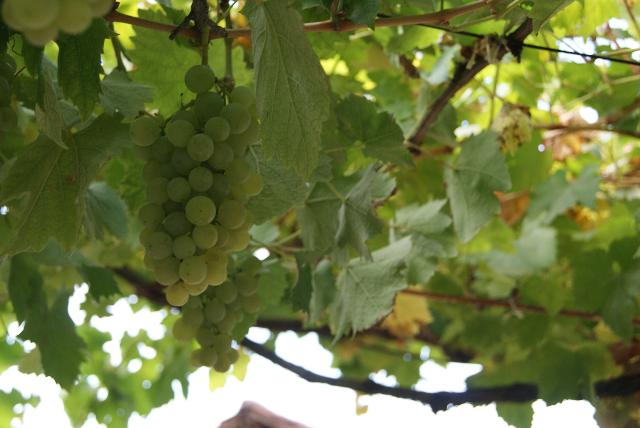grapes: (130, 65, 262, 305), (172, 255, 262, 371)
